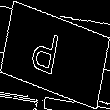P_S: (38, 26, 72, 84)
